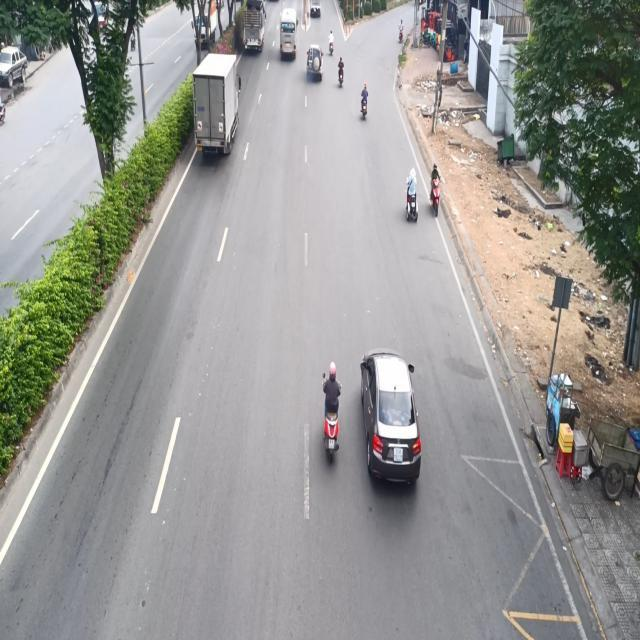car: (359, 349, 422, 486)
person: (321, 361, 341, 449), (405, 168, 417, 218), (360, 83, 368, 118), (337, 56, 344, 86), (328, 30, 334, 55)
truck: (191, 51, 242, 156)
